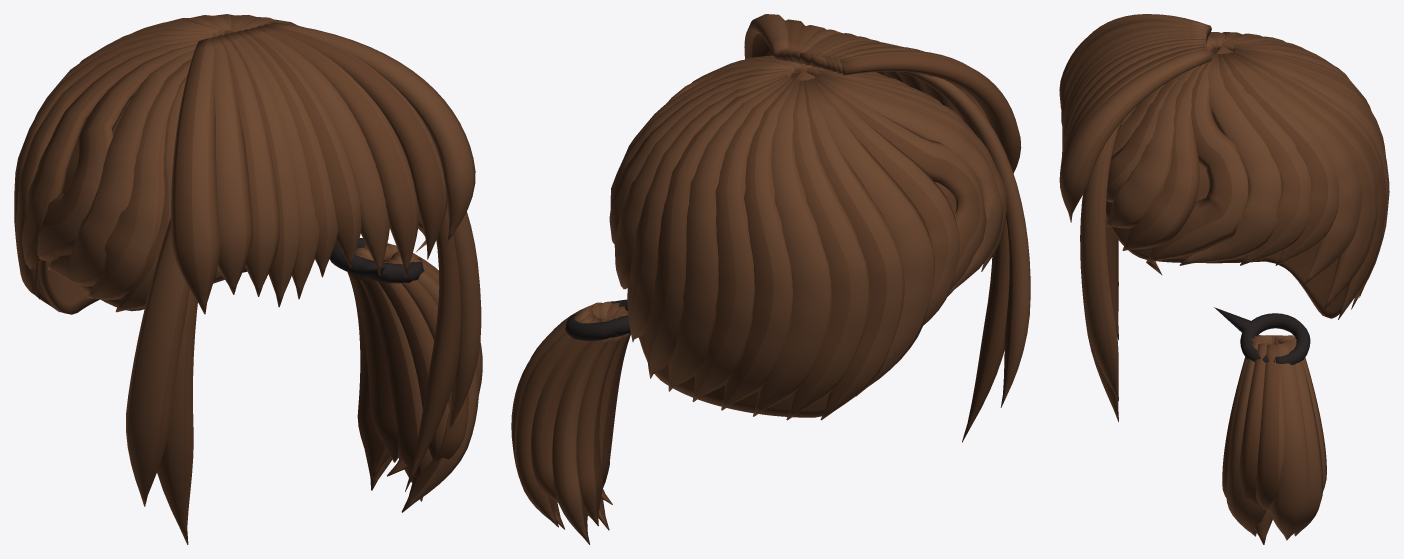
The model's file is corte-feminino-03.glb.
3 renders of one model, left to right at view 1: azimuth 30°, elevation 25°; view 2: azimuth 150°, elevation 25°; view 3: azimuth 270°, elevation 25°, orthographic. The views are drawn at different scales.
Parts seen in each view (by area): view 1: RCL_Corte_Feminino_03; view 2: RCL_Corte_Feminino_03; view 3: RCL_Corte_Feminino_03.
Boxes of the visible parts, <box> form: RCL_Corte_Feminino_03: <box>14,14,482,544</box>; RCL_Corte_Feminino_03: <box>511,14,1030,544</box>; RCL_Corte_Feminino_03: <box>1059,14,1389,544</box>.
Size of the model in its own units: 0.2678 by 0.3062 by 0.2149.
